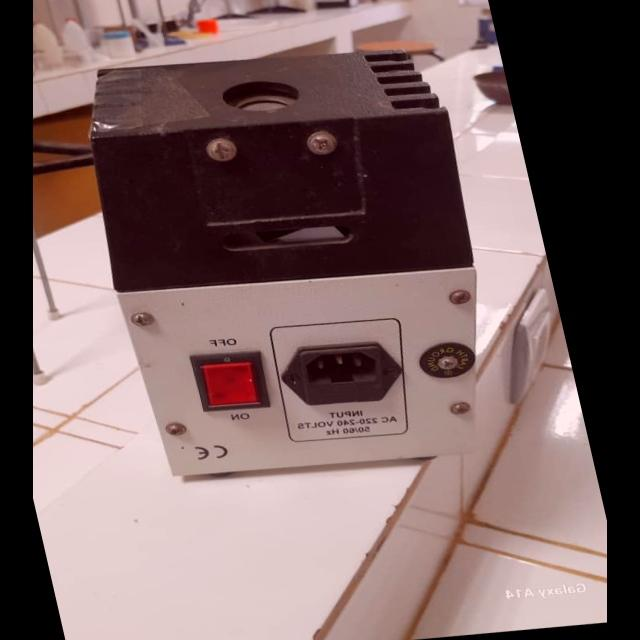Melting Point Apparatus: (51, 37, 528, 486)
